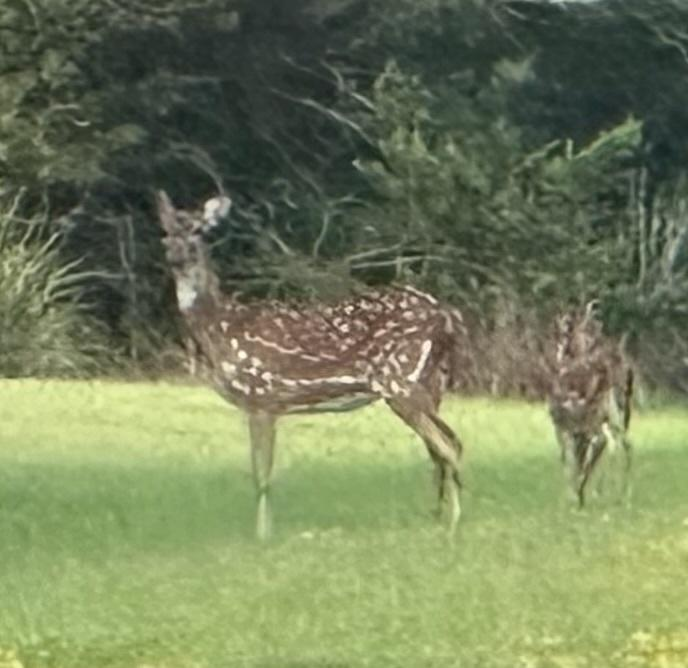Deer: (156, 192, 465, 536), (543, 301, 633, 507)
